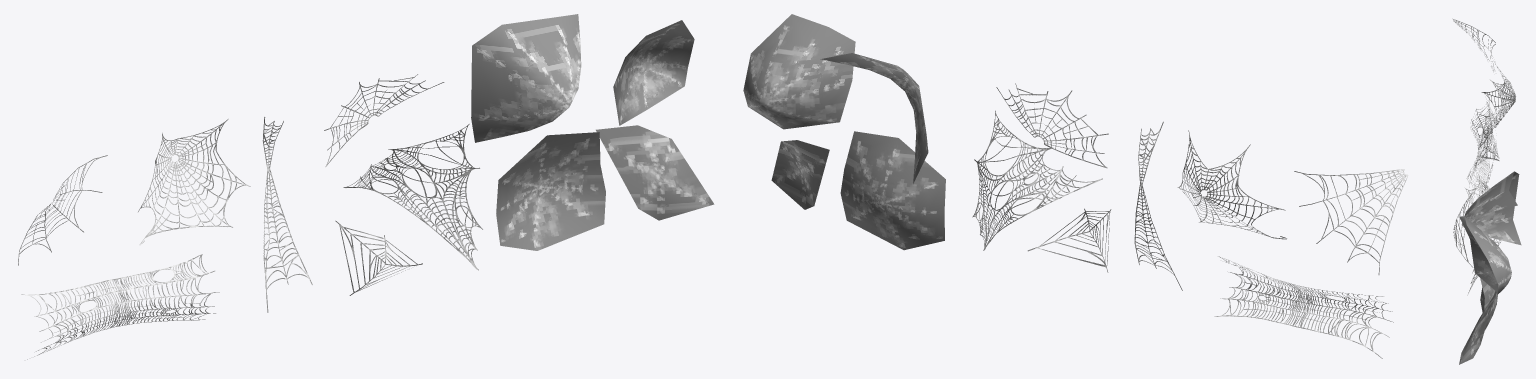
The model's file is terr_cobwebs_asset_pack.glb.
The picture shows the model from 3 angles, left to right: view 1: azimuth 30°, elevation 25°; view 2: azimuth 150°, elevation 25°; view 3: azimuth 270°, elevation 25°; orthographic projection. The views are drawn at different scales.
Parts seen in each view (by area): view 1: Object_2; view 2: Object_2; view 3: Object_2.
Boxes of the visible parts, x1=… form: Object_2: x1=18, y1=14, x2=714, y2=359; Object_2: x1=743, y1=14, x2=1408, y2=358; Object_2: x1=1452, y1=18, x2=1521, y2=364.
Size of the model in its own units: 1.2 by 0.3634 by 0.1679.
Materials: 3 (3 with a texture image).
